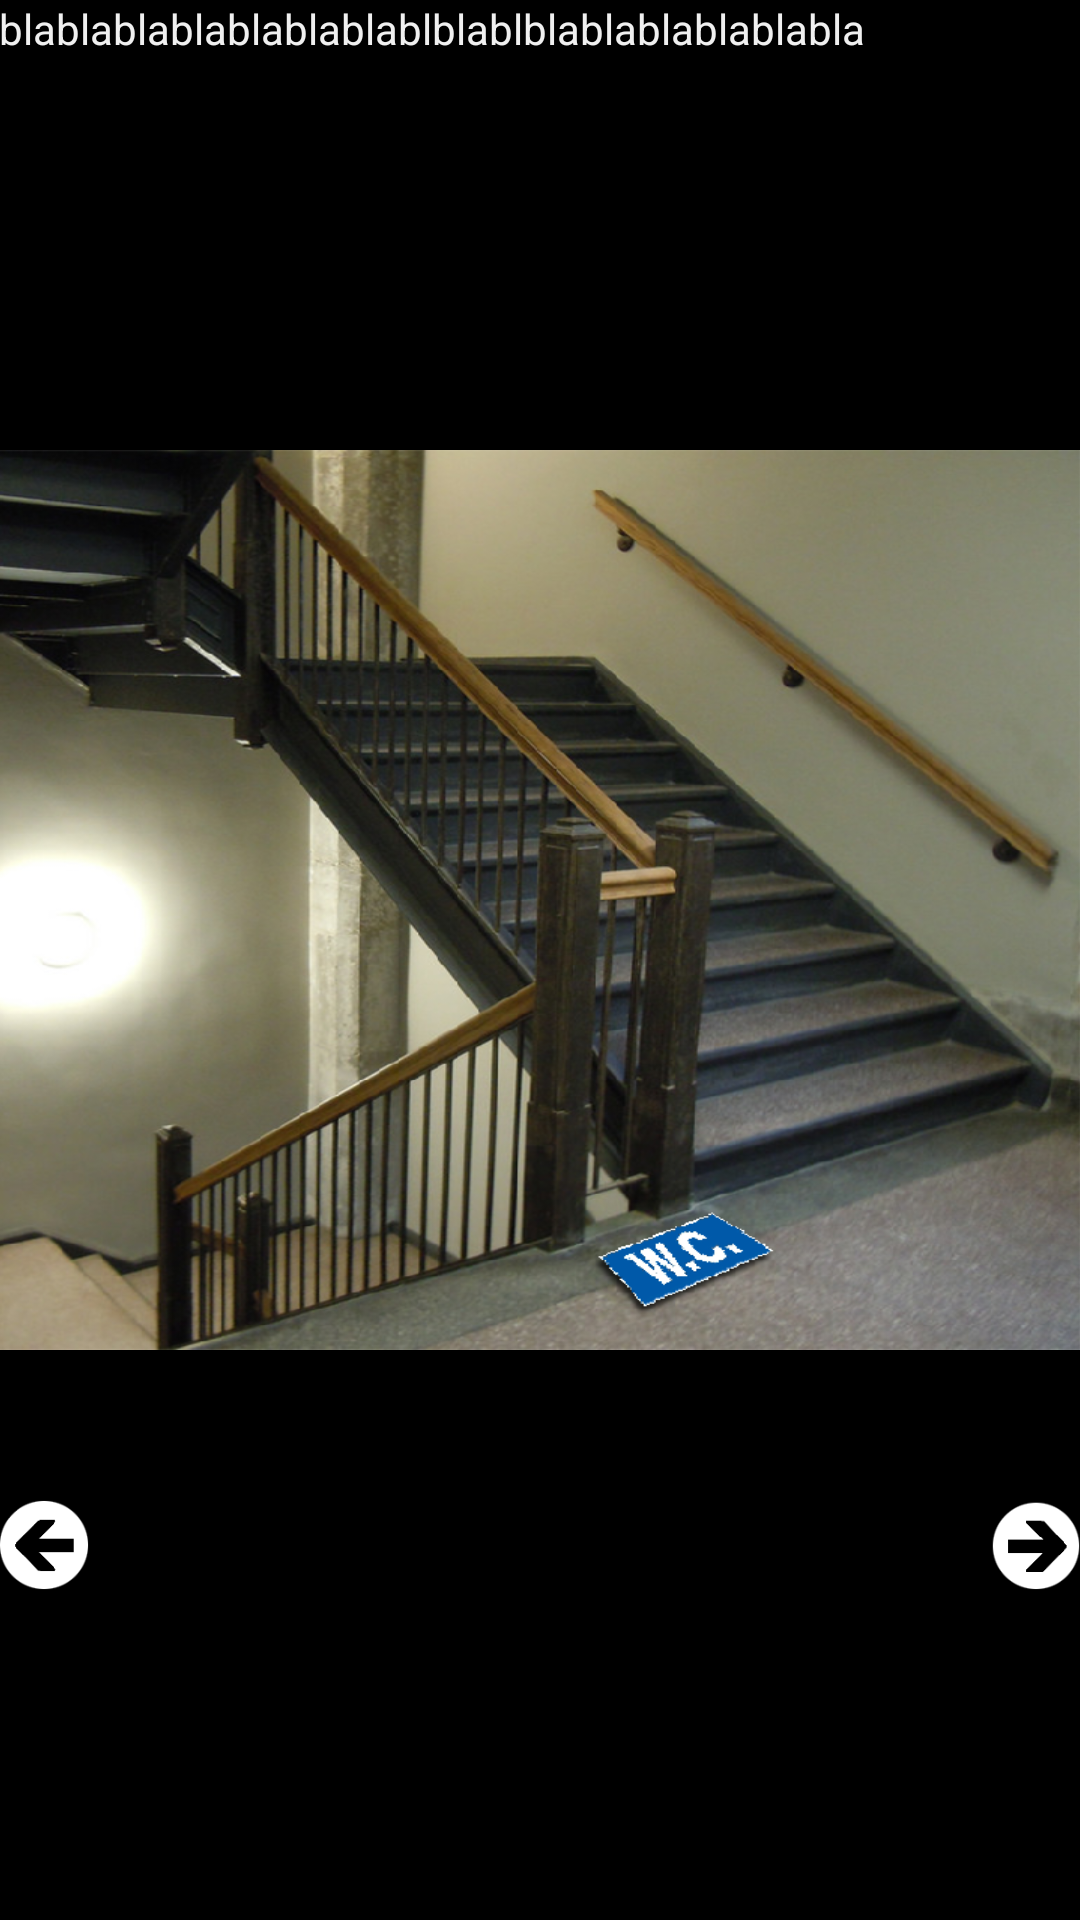

Icons on this 1080x1920 Android screen, each with the point to tap as (x=x, y=y):
bouton fleche droite: (x=1036, y=1545)
bouton fleche gauche: (x=44, y=1545)
